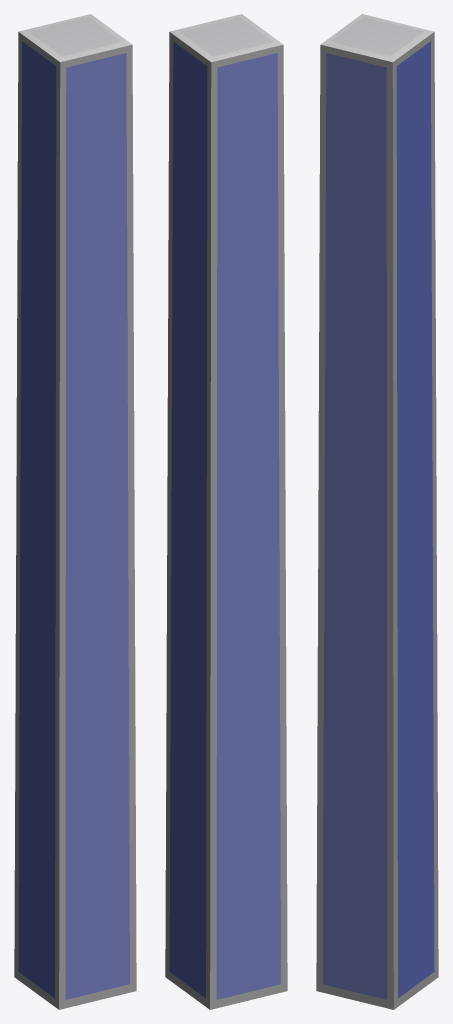
The model's file is SmallBeamBlue (GaryLabRamp).glb.
3 renders of one model, left to right at view 1: azimuth 30°, elevation 25°; view 2: azimuth 210°, elevation 25°; view 3: azimuth 330°, elevation 25°, orthographic.
Visible parts, largest first — view 1: SmallBeamBlue (GaryLabRamp); view 2: SmallBeamBlue (GaryLabRamp); view 3: SmallBeamBlue (GaryLabRamp).
Boxes of the visible parts, x1,y1,x2,y2 form: SmallBeamBlue (GaryLabRamp): [14, 14, 136, 1009]; SmallBeamBlue (GaryLabRamp): [165, 14, 287, 1009]; SmallBeamBlue (GaryLabRamp): [316, 14, 438, 1009].
Size of the model in its own units: 0.4213 by 4.93 by 0.4213.
